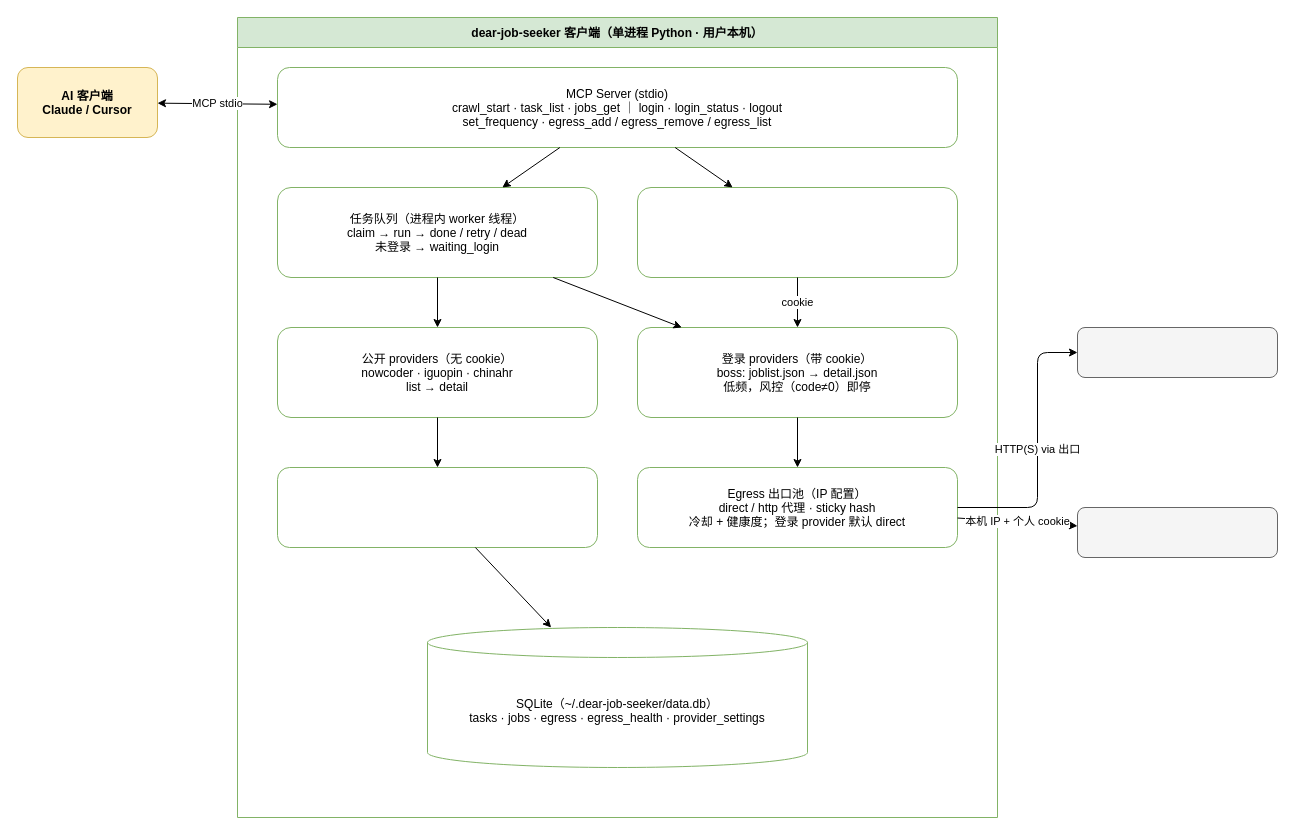
The diagram is 1295 pixels wide and 835 high, and some of its shapes have lost their labels. Here are the shapes that lost their labels. From the top down, the box of each, then its label:
(636, 186, 958, 278): 登录管理（login-required provider） Playwright 持久化 profile · 扫码 cookies.json 0600，仅本机
(1076, 326, 1278, 378): 公开招聘站点
(276, 466, 598, 548): Pacer 频次 interval + jitter / provider 可 set_frequency 覆盖
(1076, 506, 1278, 558): Boss 直聘（需登录态）
